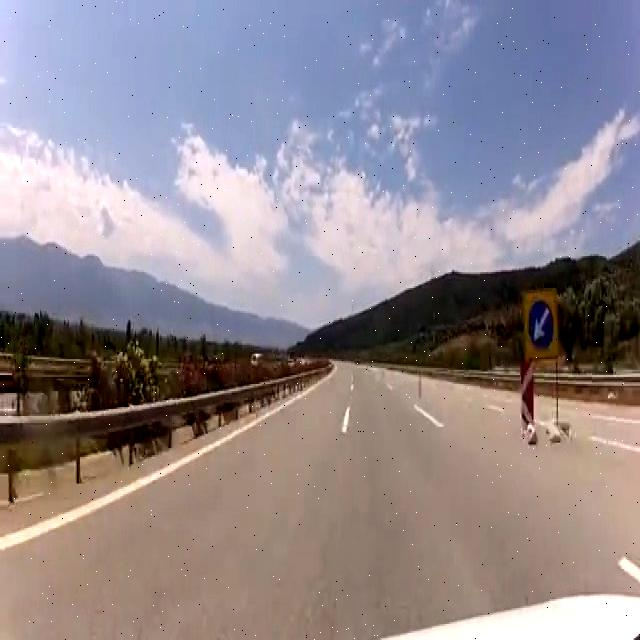lane: (0, 392, 309, 550), (619, 556, 640, 581), (341, 407, 349, 433)
road: (12, 362, 639, 638)
